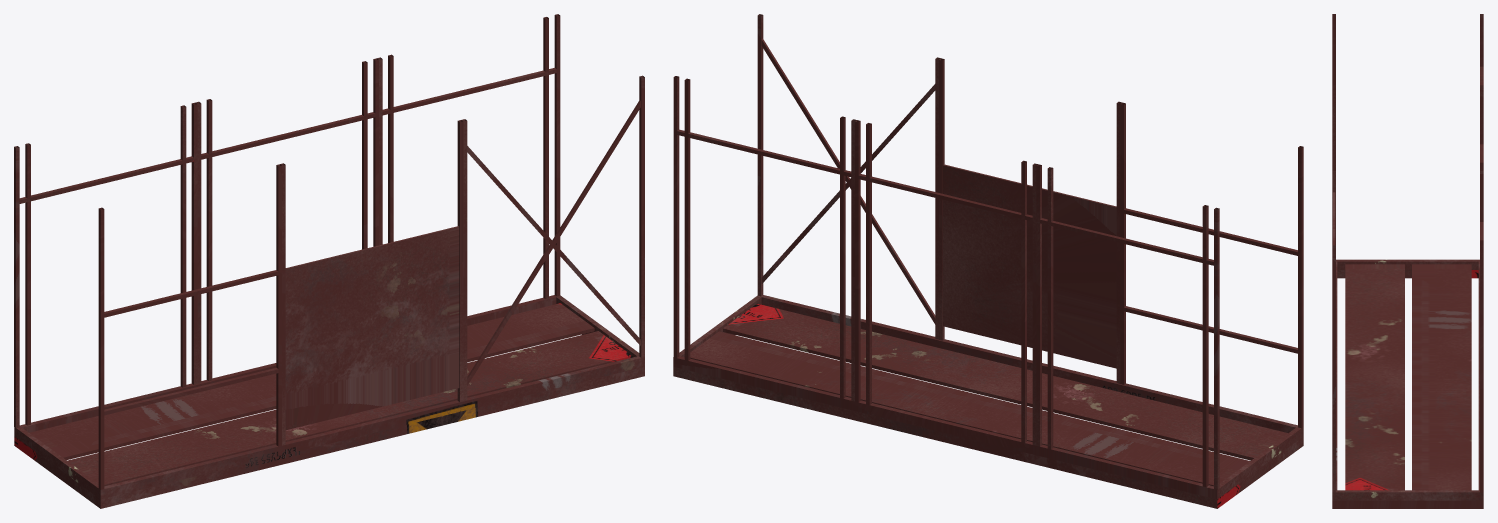
The model's file is CS_scaffolding_02.FBX.
The picture shows the model from 3 angles, left to right: view 1: azimuth 30°, elevation 25°; view 2: azimuth 150°, elevation 25°; view 3: azimuth 270°, elevation 25°; orthographic projection. The views are drawn at different scales.
Parts seen in each view (by area): view 1: SM_scaffolding_02; view 2: SM_scaffolding_02; view 3: SM_scaffolding_02.
Part boxes in pixels (left/top/right/bottom): SM_scaffolding_02: left=14, top=14, right=644, bottom=508; SM_scaffolding_02: left=673, top=14, right=1303, bottom=508; SM_scaffolding_02: left=1332, top=14, right=1483, bottom=508.
Size of the model in its own units: 600 by 165 by 315.
